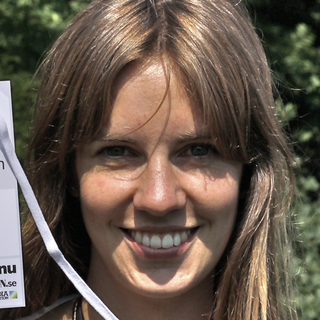eye: (174, 140, 224, 165), (92, 140, 142, 164)
